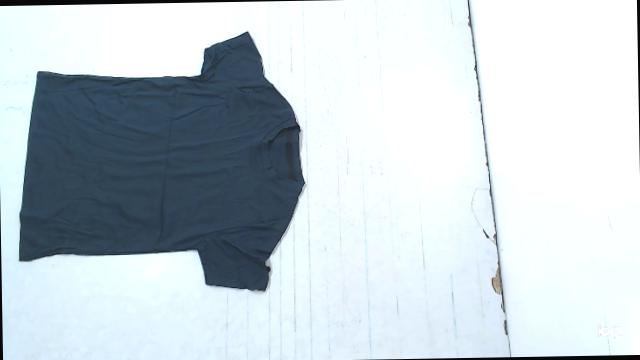new-garment: (19, 32, 304, 290)
